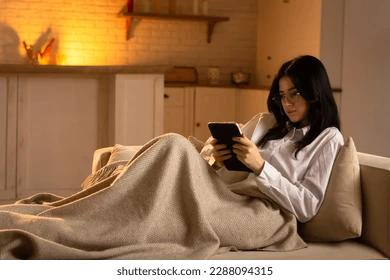blanket: (0, 132, 308, 260)
long sleeve shirt: (199, 111, 345, 223)
